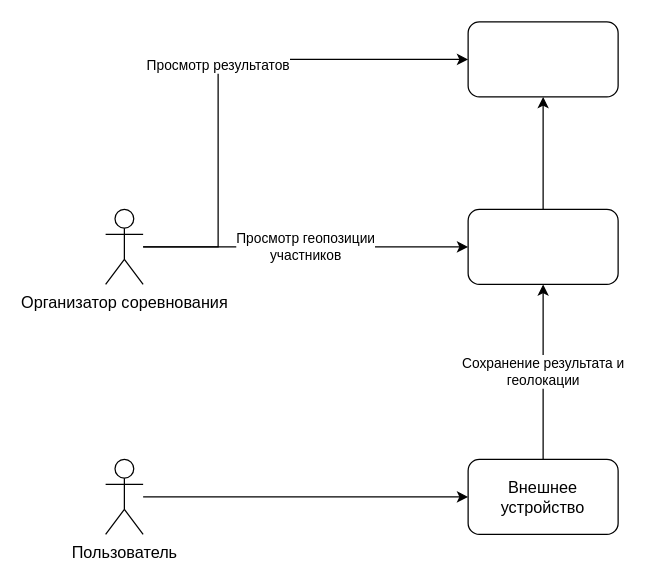
This 646x585 diagram has some shape labels left out. Here are the shapes that lost their labels. From the top down, the box of each, then its label:
(467, 21, 618, 97): Турнирная таблица
(467, 208, 618, 284): Сервис GIS
